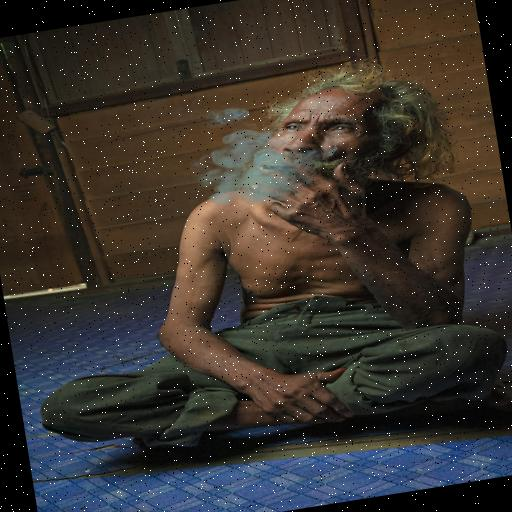terdeteksi merokok: (230, 102, 349, 208)
